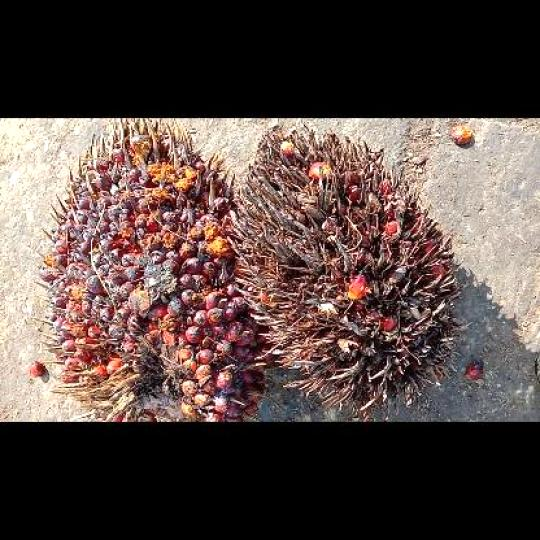masak: (35, 117, 277, 420)
terlalu masak: (235, 127, 463, 421)
